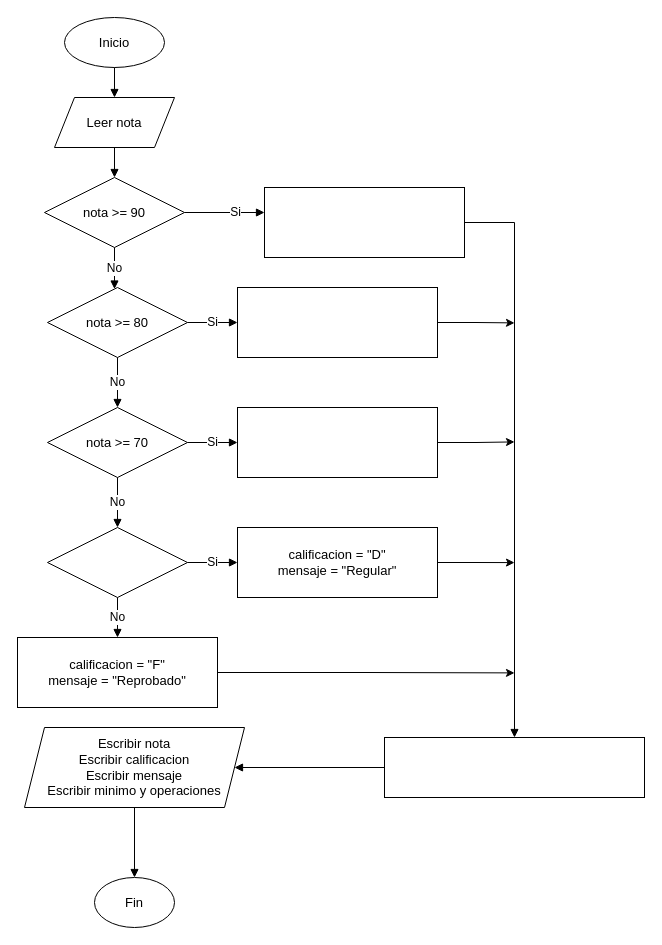
This 662x945 diagram has some shape labels left out. Here are the shapes that lost their labels. From the top down, the centre of each, then its label:
(364,222): calificacion = "A" mensaje = "Excelente"
(337,322): calificacion = "B" mensaje = "Muy bueno"
(337,442): calificacion = "C" mensaje = "Bueno"
(117,562): nota >= 60
(514,767): operaciones = operaciones + 1 minimo = menor valor numerico
